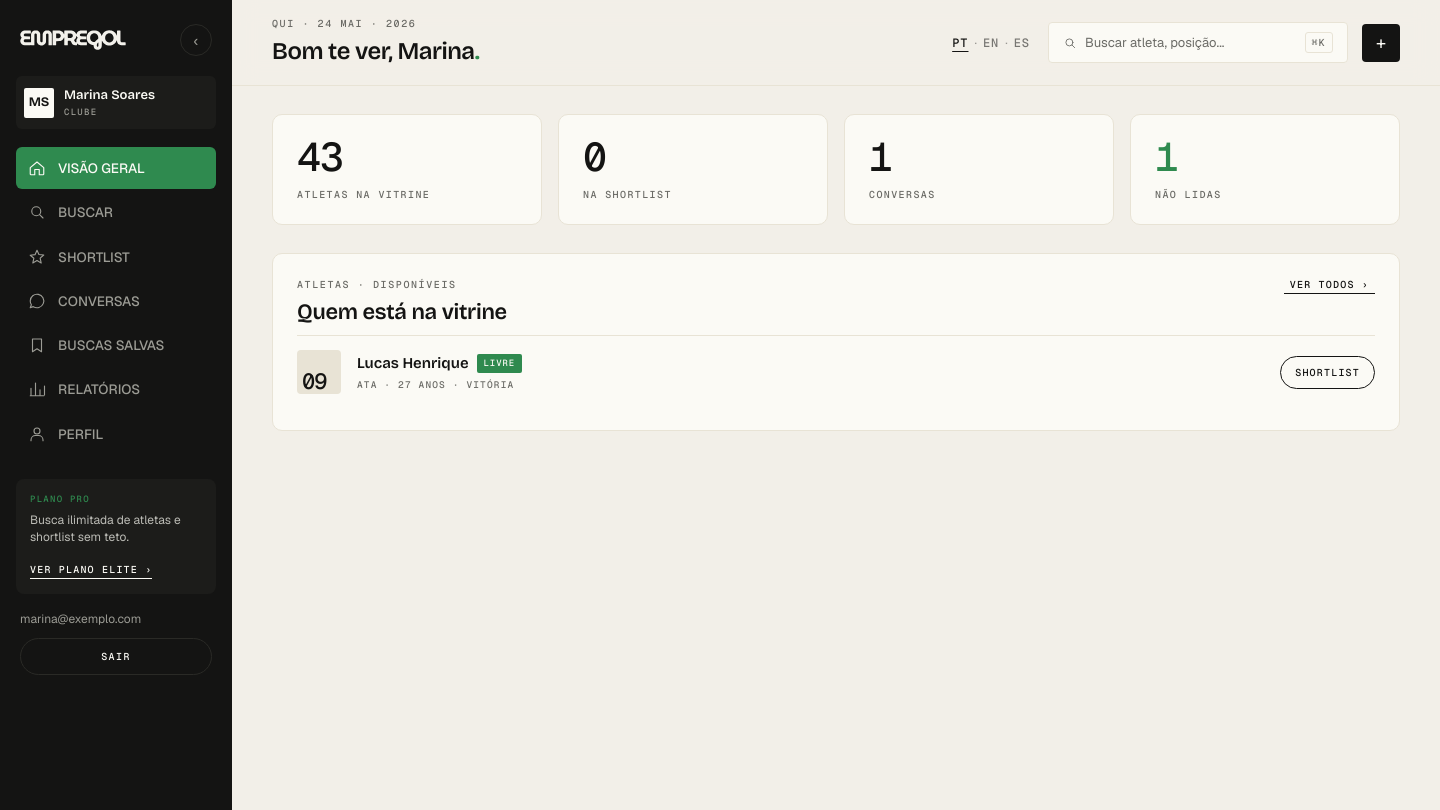
Test: DashboardPage › retrai e expande a barra lateral
Click the button named "Retrair menu" at point(196, 40), box [180,24,212,56]
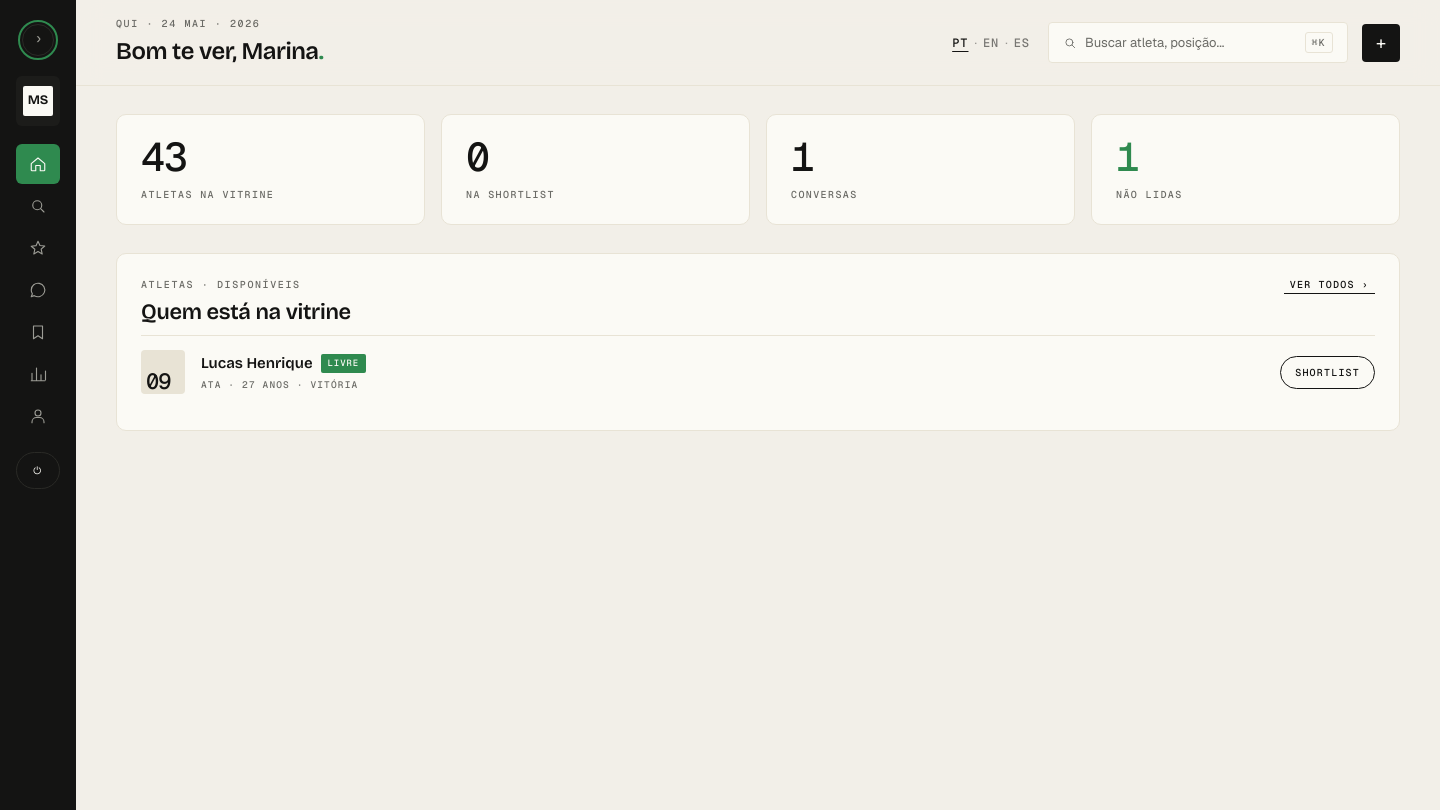
Expected: the button named "Expandir menu" is collapsed
Expected: the text "Marina Soares" is gone
Click the button named "Expandir menu" at point(38, 40), box [22,24,54,56]
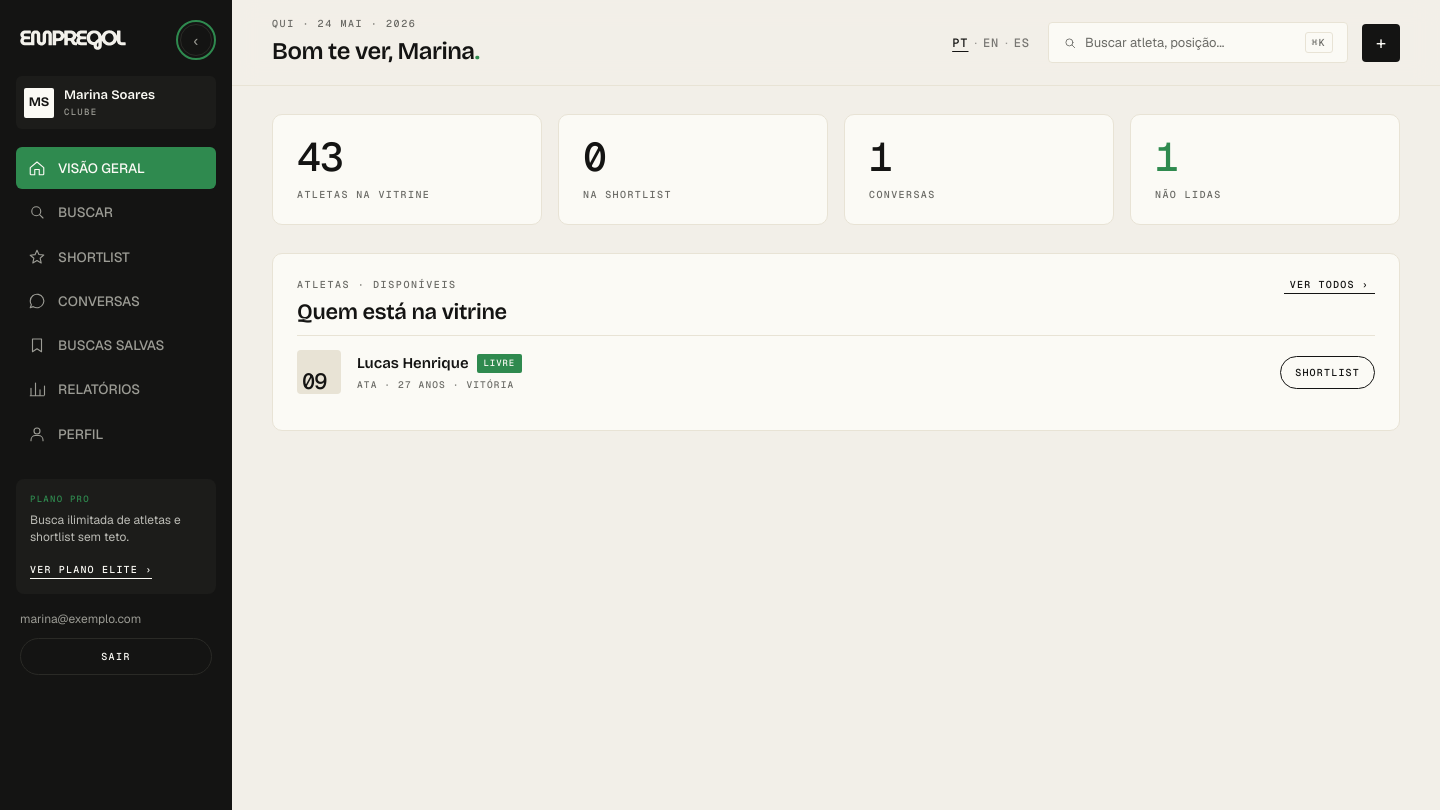
Expected: the text "Marina Soares" is shown, [64,87,155,103]
